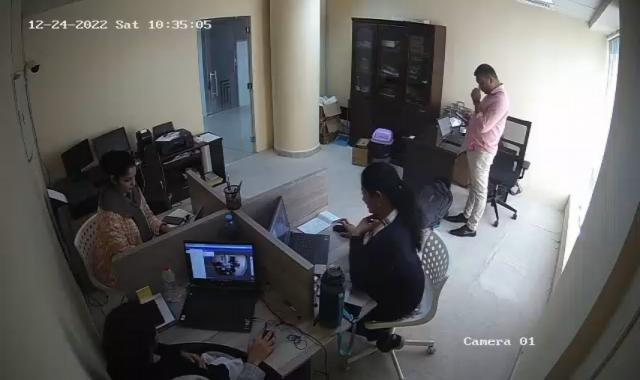no_hairnet: (102, 300, 156, 368), (359, 163, 398, 214), (103, 152, 138, 196), (476, 62, 502, 94)
